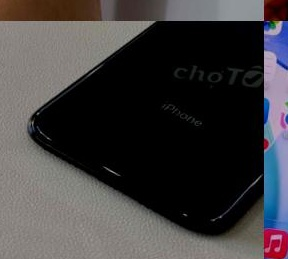scratch: (127, 112, 171, 139), (166, 193, 186, 208)
